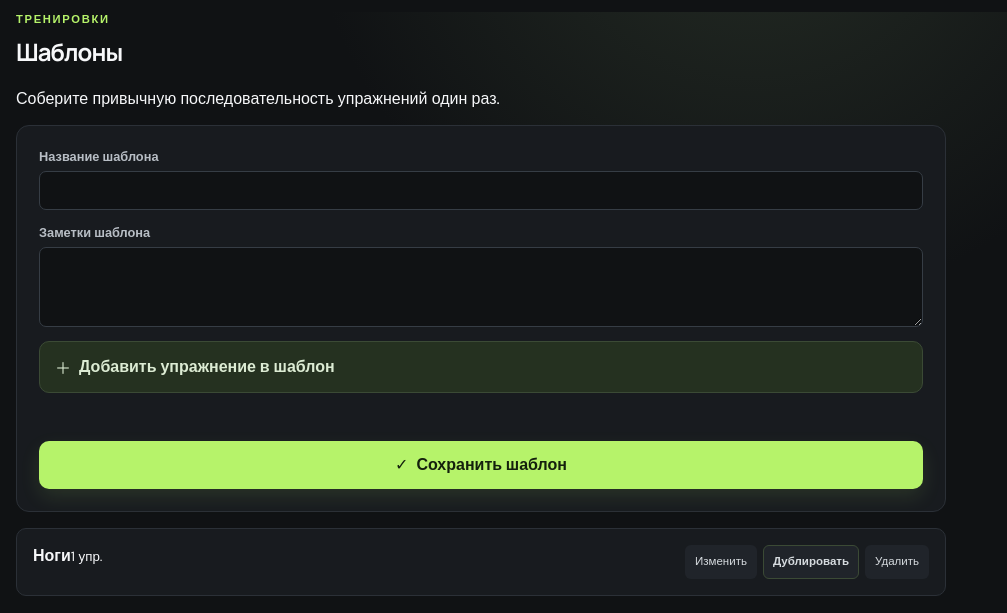
Test: TemplatePage › confirms deletion of a template
Expected: the text "Ноги" is shown, top-left (33, 545), bottom-right (71, 566)
Click the button with aria-label "Удалить шаблон Ноги". click: (897, 562)
box: top-left (865, 545), bottom-right (929, 579)
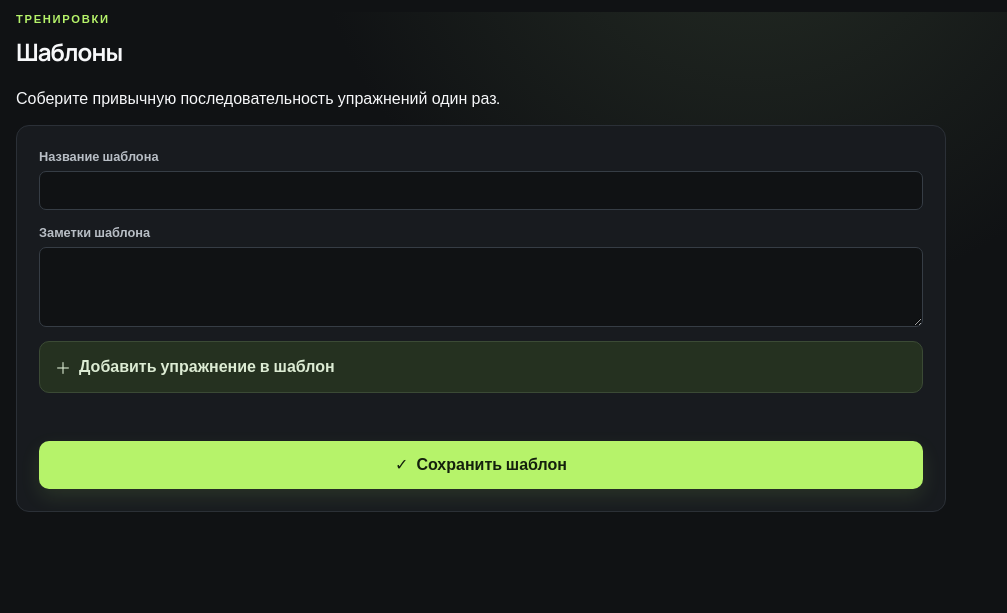
Expected: the text "Ноги" is gone
